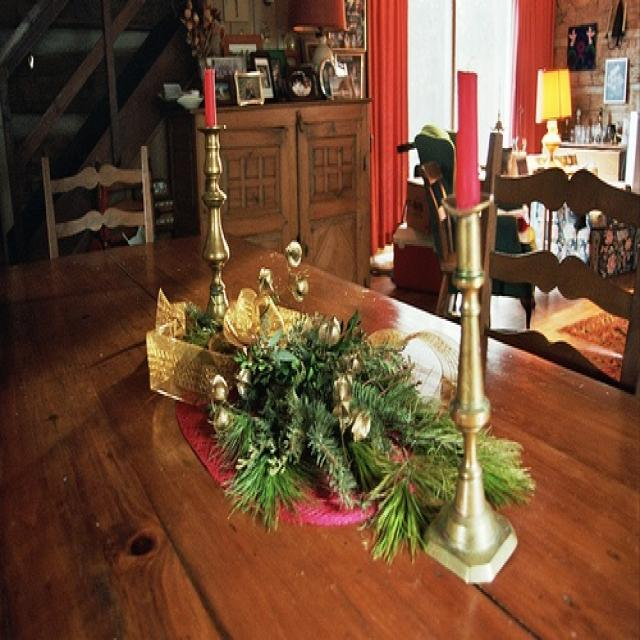chair: (477, 131, 639, 396), (419, 162, 535, 330), (41, 144, 156, 262)
diningtable: (1, 231, 639, 638)
